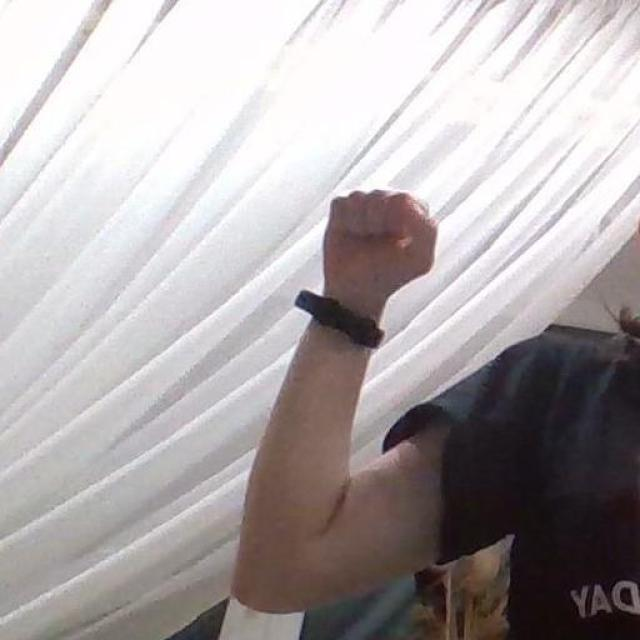hand: (321, 186, 440, 322)
